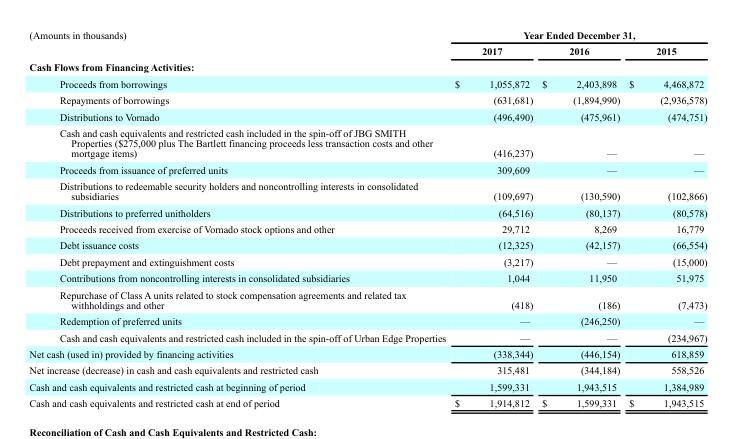table: (28, 28, 706, 408)
table column: (28, 28, 449, 408), (449, 28, 536, 408), (536, 28, 623, 408), (623, 28, 706, 408)
table column header: (28, 28, 706, 58)
table projected row header: (28, 58, 706, 75)
table row: (28, 124, 706, 161), (28, 177, 706, 203), (28, 286, 706, 312), (28, 58, 706, 75), (28, 91, 706, 108), (28, 203, 706, 220), (28, 236, 706, 253), (28, 269, 706, 286), (28, 328, 706, 345), (28, 361, 706, 378), (28, 42, 706, 58), (28, 75, 706, 91), (28, 108, 706, 124), (28, 161, 706, 177), (28, 220, 706, 236), (28, 253, 706, 269), (28, 312, 706, 328), (28, 345, 706, 361), (28, 378, 706, 394), (28, 28, 706, 42), (28, 394, 706, 408)
table spanning cell: (28, 28, 449, 58), (449, 28, 706, 42)
